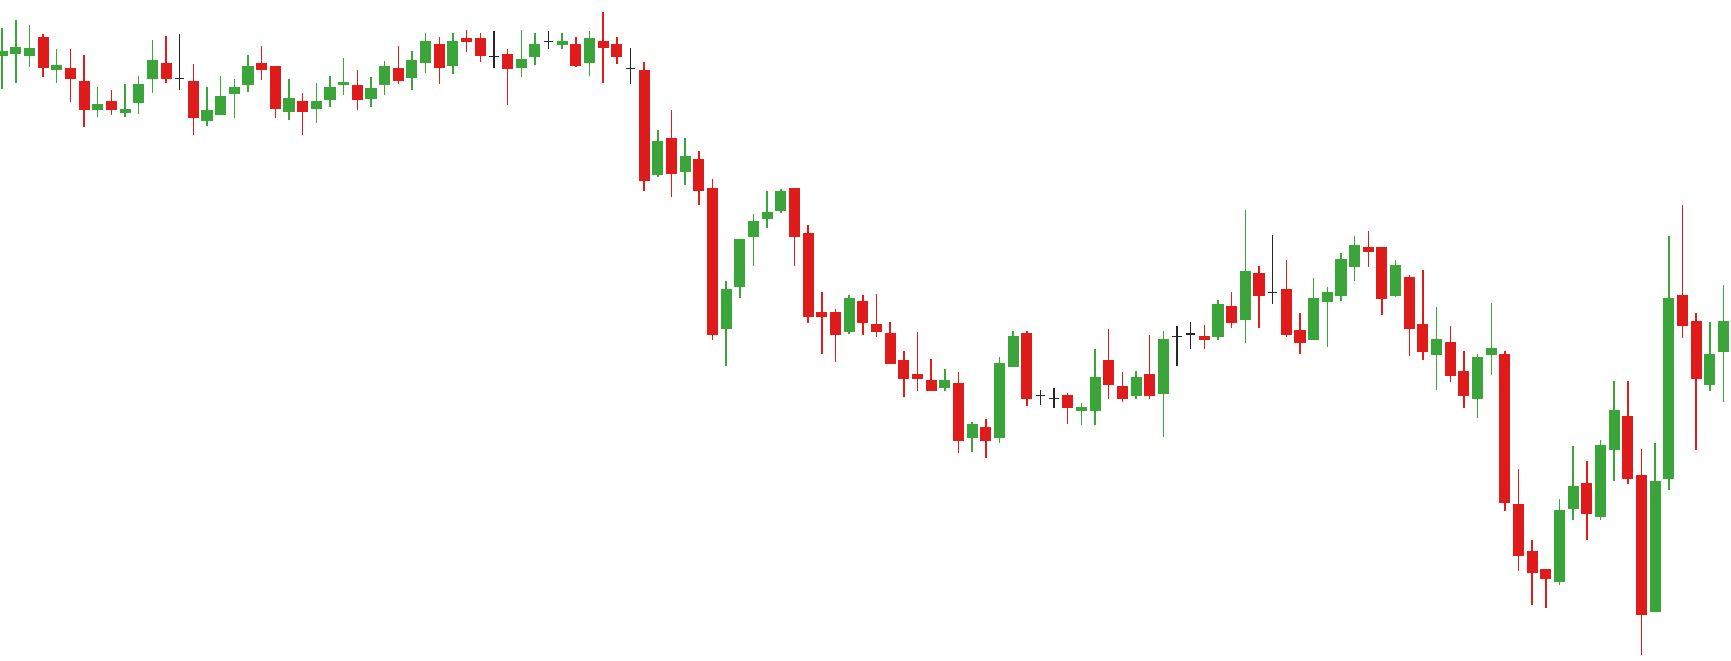buy: (1523, 475, 1664, 660)
